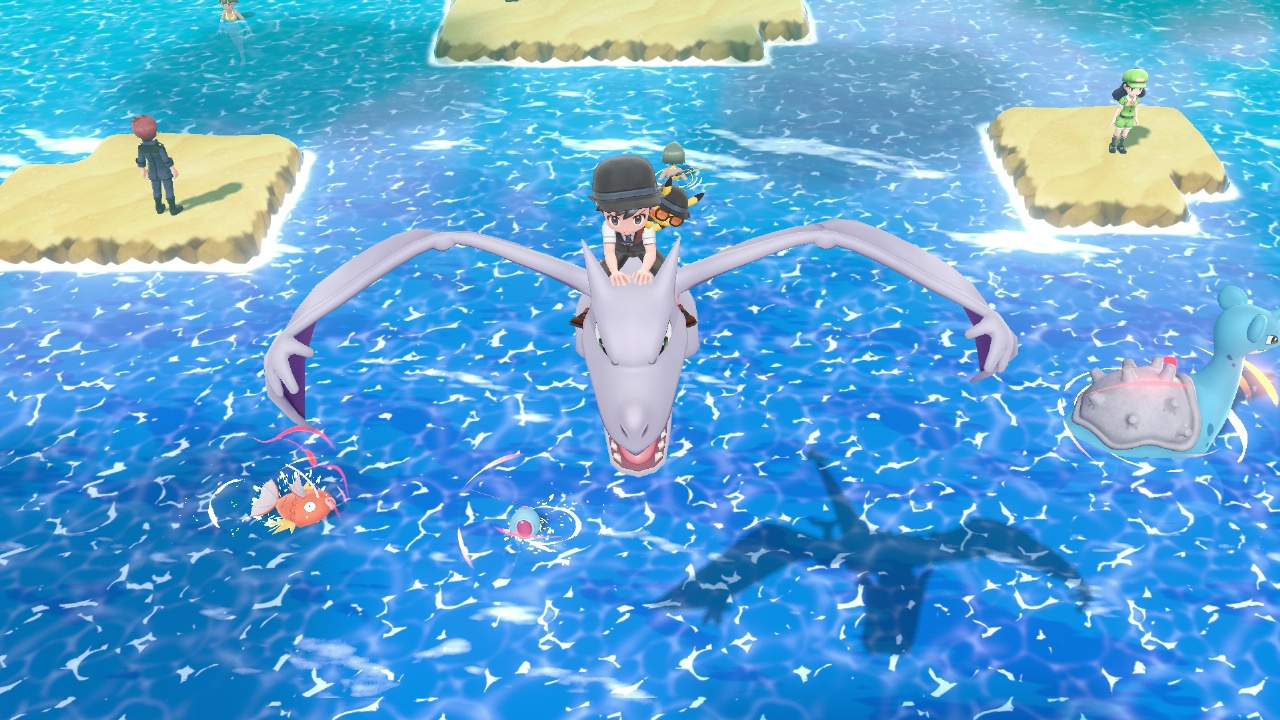Red: (246, 474, 343, 534)
